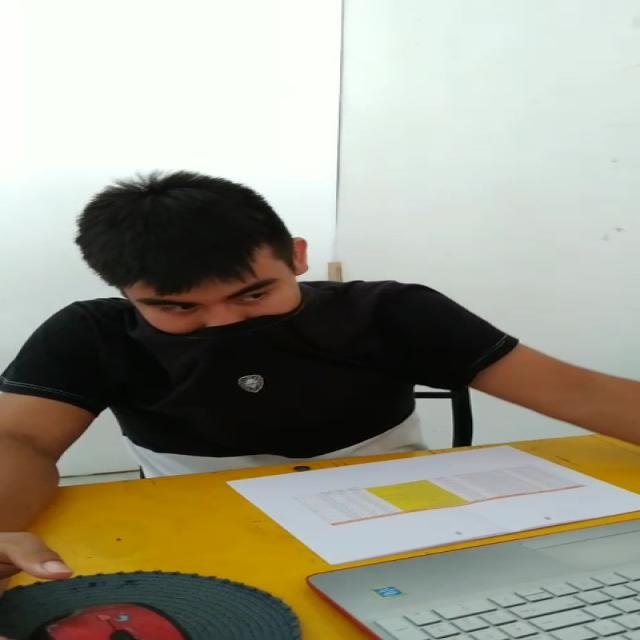8_ropa_rostro: (100, 291, 366, 379)
